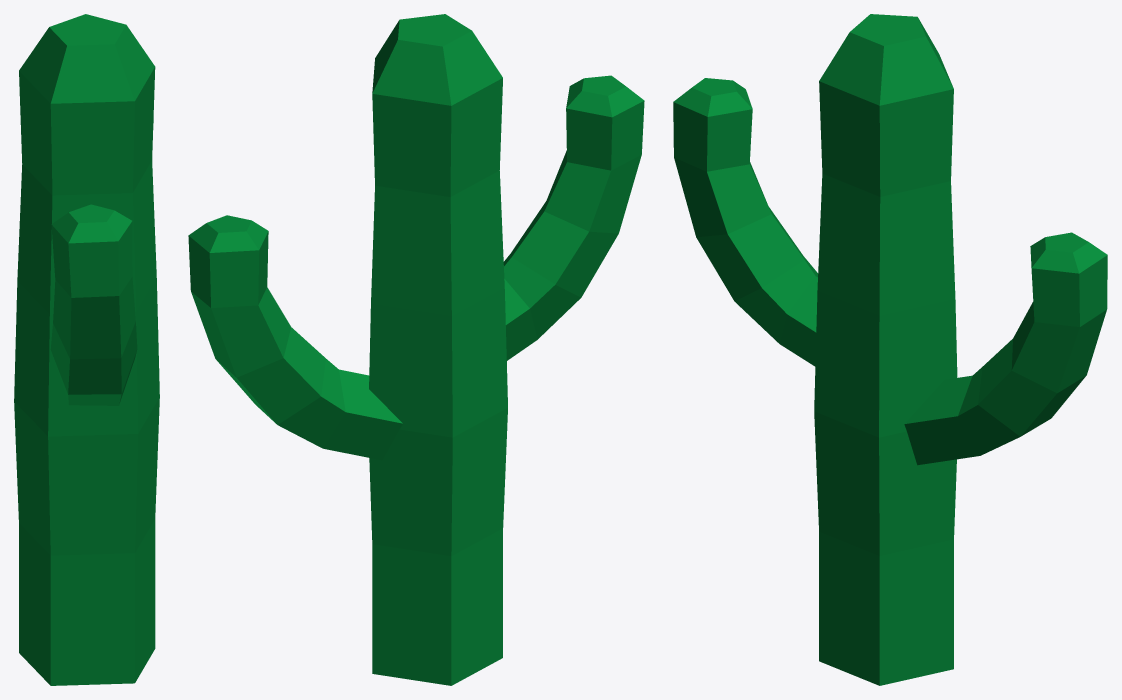
File: cactus.glb
3 renders of one model, left to right at view 1: azimuth 30°, elevation 25°; view 2: azimuth 150°, elevation 25°; view 3: azimuth 270°, elevation 25°, orthographic.
Parts seen in each view (by area): view 1: Cylinder; view 2: Cylinder; view 3: Cylinder.
Boxes of the visible parts, x1,y1,x2,y2 form: Cylinder: [14, 14, 159, 685]; Cylinder: [188, 14, 644, 685]; Cylinder: [673, 14, 1107, 685].
Bounding box in the file's own units: 4.27 × 9.66 × 6.07.
